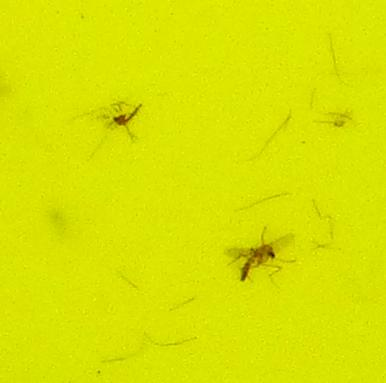Nematocera: (227, 236, 286, 283), (100, 100, 143, 130)
